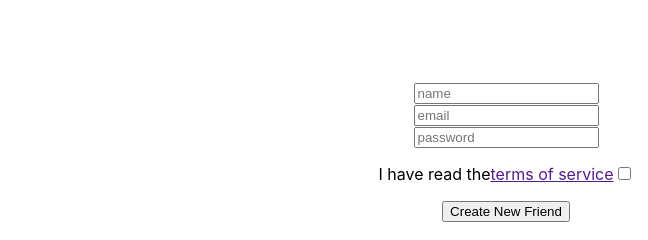
it: Testing Create New User Form › Ensure all expected input fields exist and operate correctly › all input fields must pass a specified schema before the submit button works › if name is null error message appears
The width and height of the screenshot is (648, 240).
Type "dawsonreschke@gmail.com" into the field named "email".
click(507, 117); type("dawsonreschke@gmail.com")  # box [414,106,599,127]
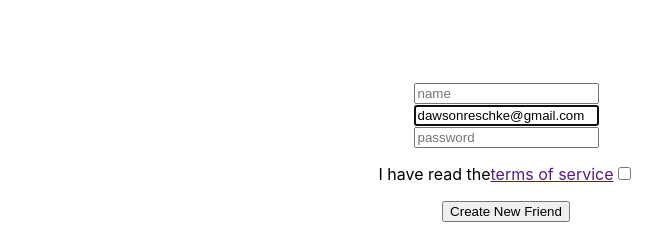
Type "123456" into the password field named "password".
click(507, 139); type("123456")  # box [414,128,599,149]
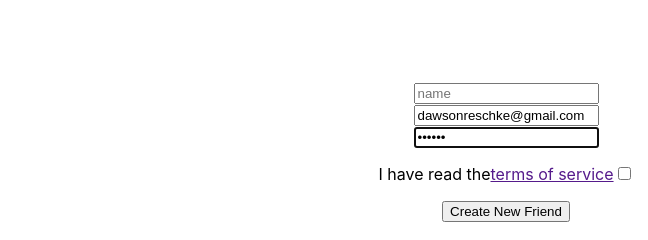
Click the checkbox named "tos".
click(625, 175)  # box [618,168,631,181]
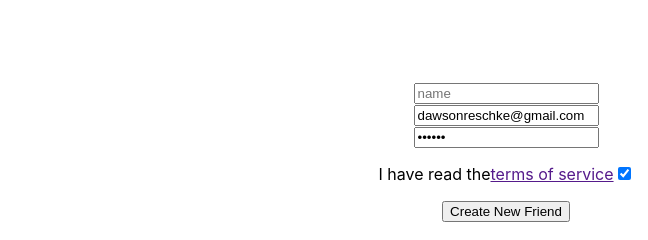
Click the button named "submitBtn".
click(506, 213)  # box [442,202,570,223]
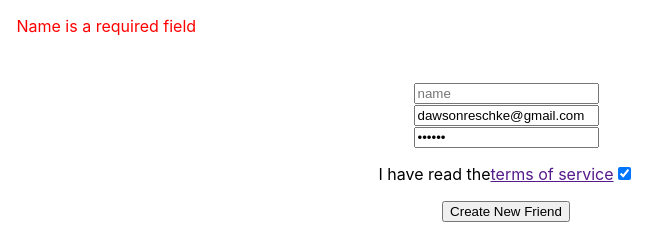
Now the text "Name is a required field" is shown, box [16,16,196,36]
